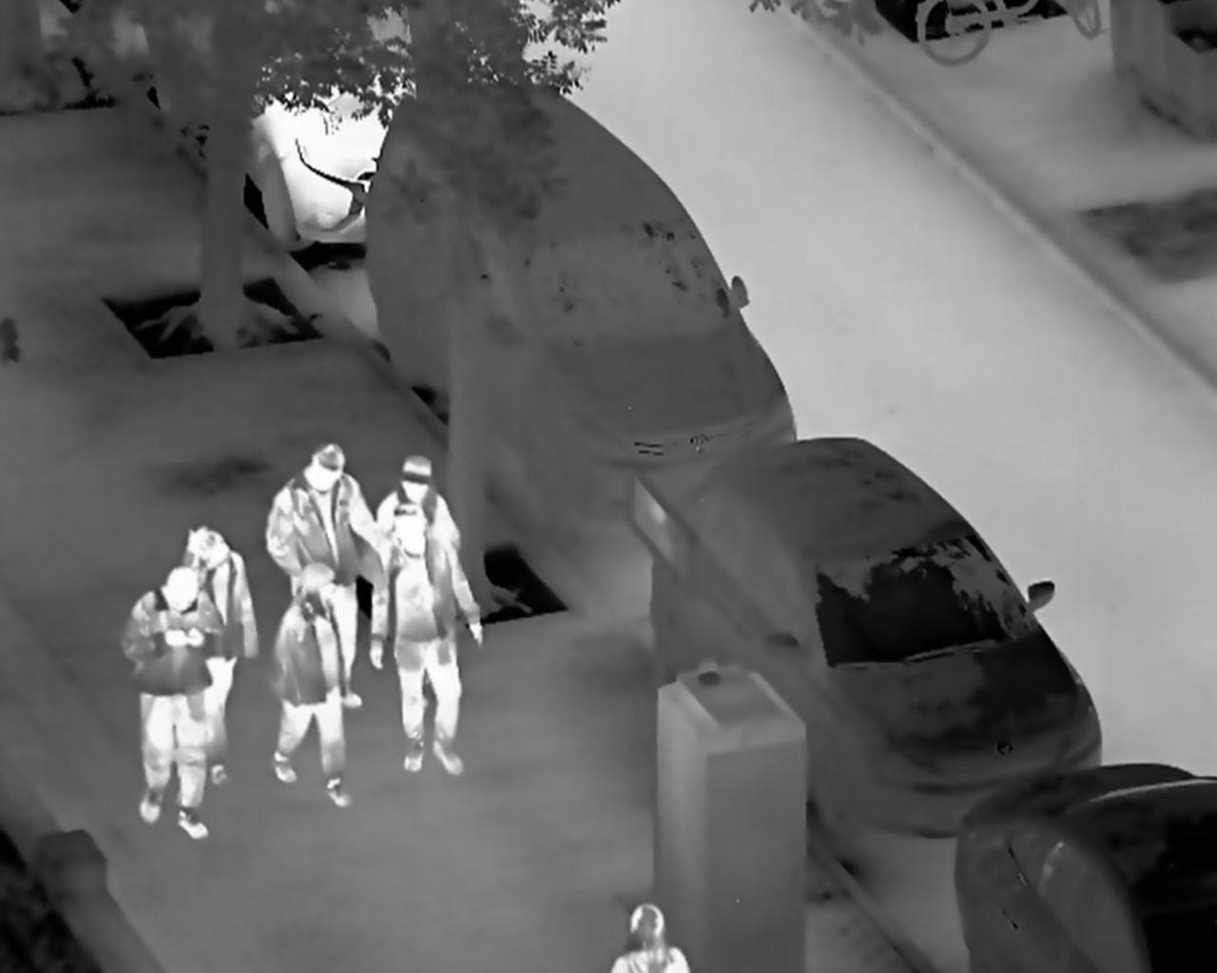person: (261, 437, 391, 715), (368, 502, 483, 777), (126, 566, 233, 843), (268, 561, 357, 815), (377, 454, 460, 611)
